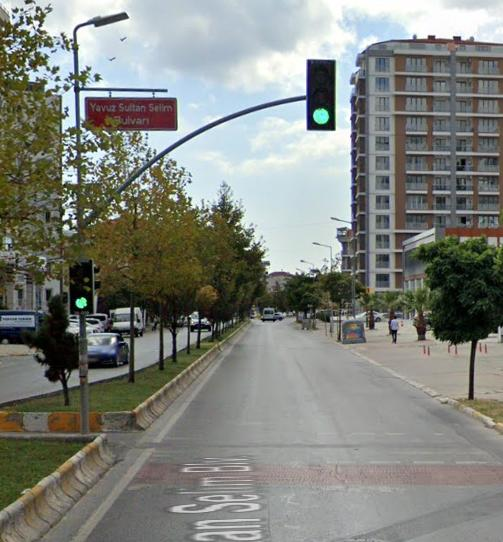greenlight: (308, 61, 334, 129), (68, 255, 91, 314)
